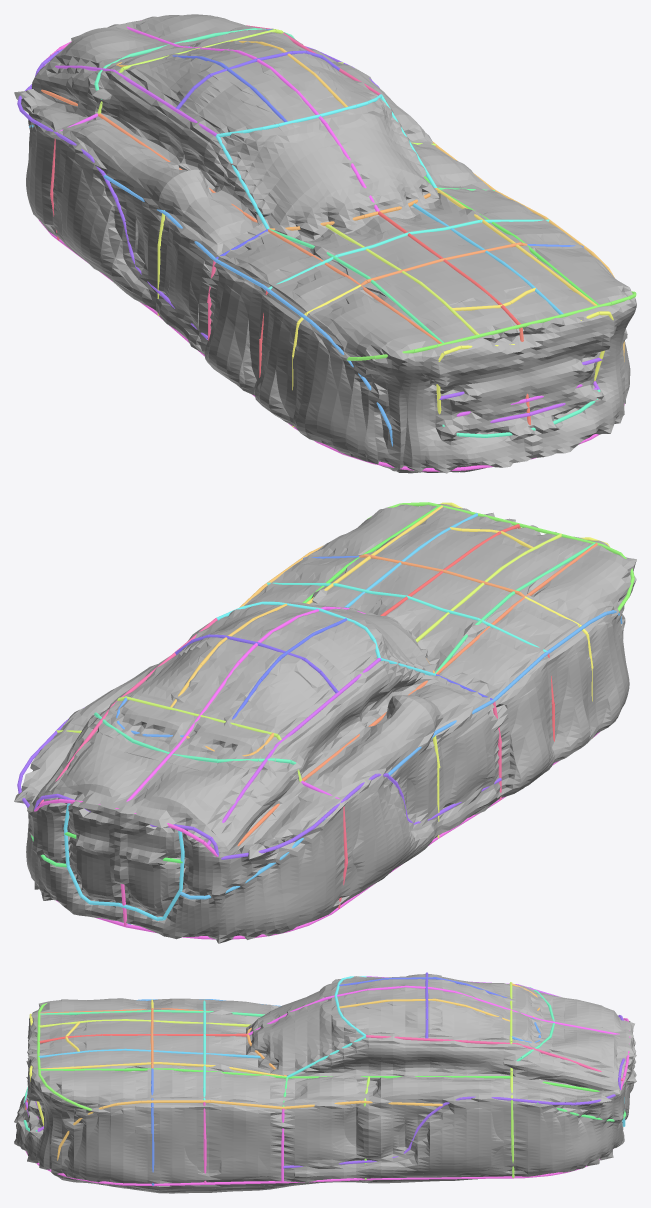
The model's file is t2f_car_97.gltf.
The picture shows the model from 3 angles, top to bottom: view 1: azimuth 30°, elevation 25°; view 2: azimuth 150°, elevation 25°; view 3: azimuth 270°, elevation 25°; orthographic projection. The views are drawn at different scales.
Size of the model in its own units: 0.401 by 0.2705 by 0.9163.
